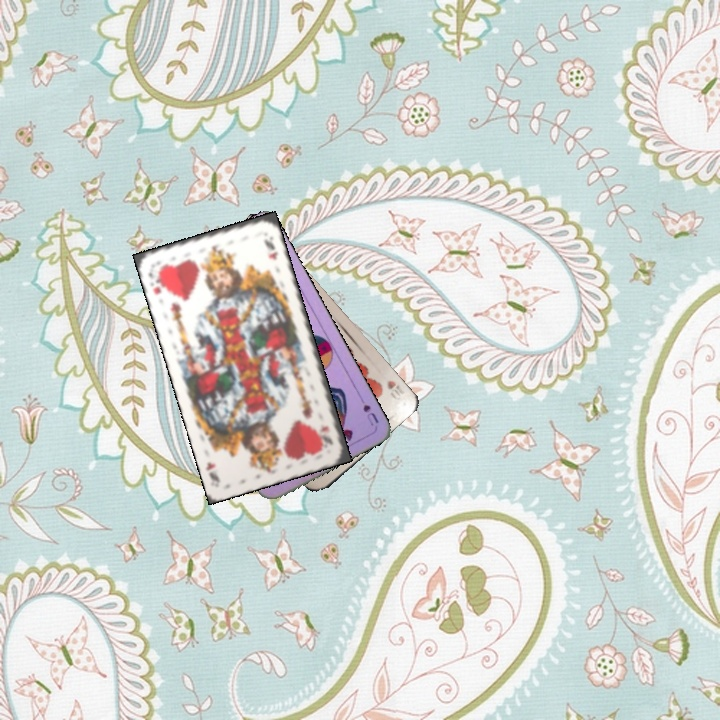H10: (383, 376, 408, 403)
HK: (144, 265, 163, 297), (319, 421, 336, 448)
SU: (354, 390, 381, 428)
